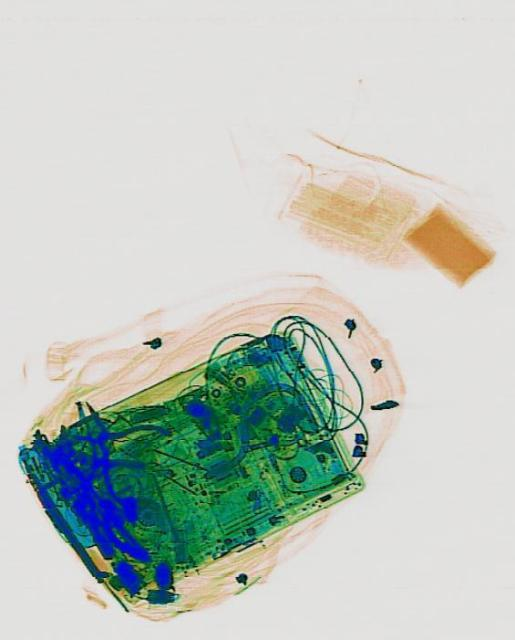Pliers: (52, 376, 173, 512)
